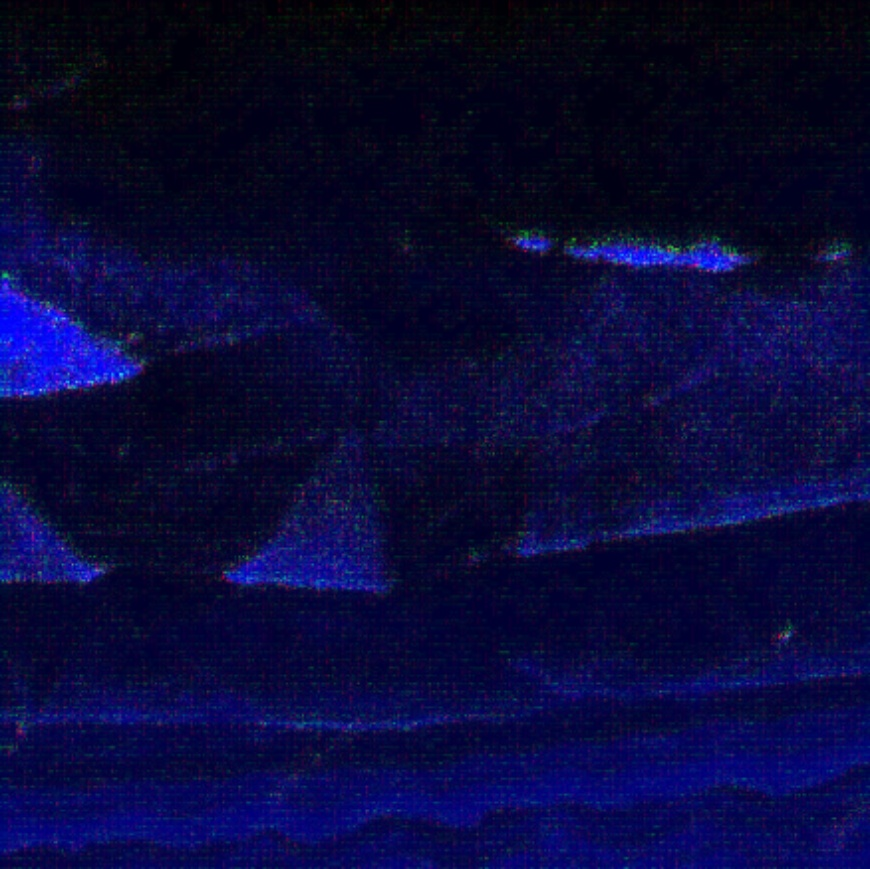rip_current: (317, 190, 580, 665)
